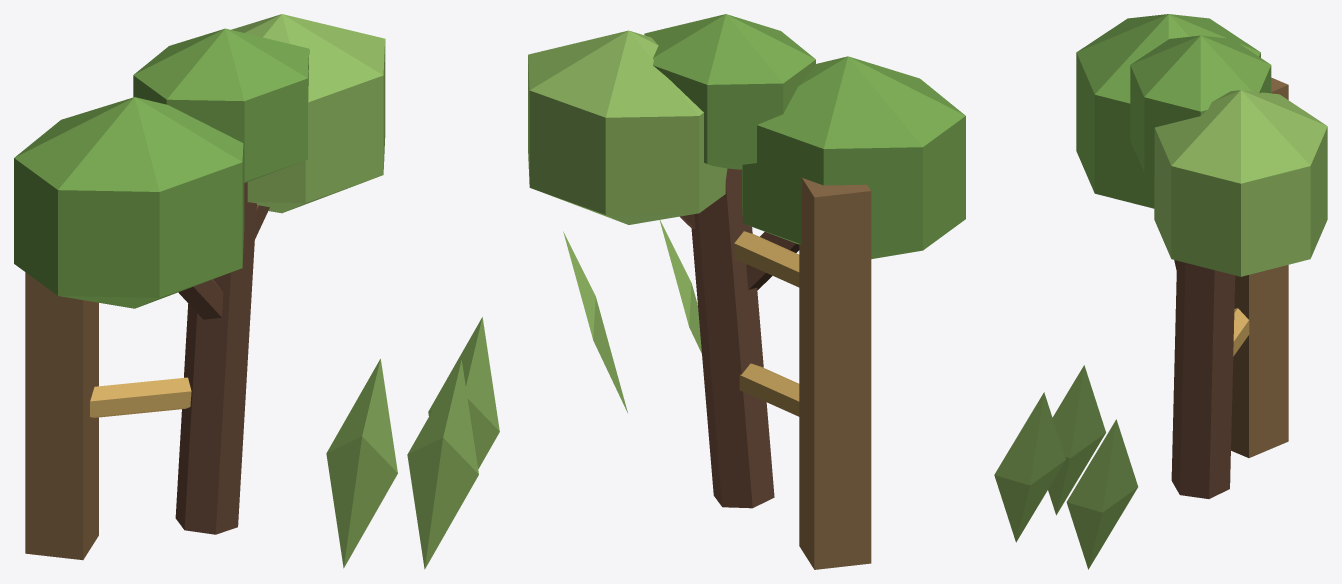
Rendered from sapling.glb.
3 views of the same model, side by side, from view 1: azimuth 30°, elevation 25°; view 2: azimuth 150°, elevation 25°; view 3: azimuth 270°, elevation 25° (orthographic). The views are drawn at different scales.
Parts seen in each view (by area): view 1: Sapling_young_crown, Sapling_timber_stake, Sapling_young_crown.002, Sapling_young_crown.001, Sapling_young_trunk, decor_Grass, decor_Grass.002, decor_Grass.001, Sapling_brass_tie, Sapling_branch; view 2: Sapling_young_crown, Sapling_young_crown.001, Sapling_timber_stake, Sapling_young_trunk, Sapling_young_crown.002, Sapling_brass_tie.001, Sapling_brass_tie, decor_Grass.001, decor_Grass.002, Sapling_branch; view 3: Sapling_young_crown.001, Sapling_young_trunk, Sapling_young_crown, Sapling_young_crown.002, Sapling_timber_stake, decor_Grass.002, decor_Grass.001, decor_Grass, Sapling_brass_tie.
Part boxes in pixels (bbox=[...]): Sapling_young_crown: bbox=[14, 97, 244, 308]; Sapling_timber_stake: bbox=[25, 272, 98, 560]; Sapling_young_crown.002: bbox=[133, 28, 309, 182]; Sapling_young_crown.001: bbox=[231, 14, 385, 213]; Sapling_young_trunk: bbox=[175, 182, 256, 534]; decor_Grass: bbox=[326, 359, 397, 568]; decor_Grass.002: bbox=[407, 360, 478, 569]; decor_Grass.001: bbox=[428, 317, 499, 468]; Sapling_brass_tie: bbox=[90, 377, 191, 417]; Sapling_branch: bbox=[178, 279, 223, 319]; Sapling_young_crown: bbox=[742, 56, 965, 258]; Sapling_young_crown.001: bbox=[528, 30, 727, 224]; Sapling_timber_stake: bbox=[799, 178, 871, 569]; Sapling_young_trunk: bbox=[691, 168, 774, 508]; Sapling_young_crown.002: bbox=[644, 14, 815, 169]; Sapling_brass_tie.001: bbox=[734, 231, 799, 287]; Sapling_brass_tie: bbox=[739, 363, 799, 416]; decor_Grass.001: bbox=[563, 231, 627, 412]; decor_Grass.002: bbox=[659, 220, 701, 353]; Sapling_branch: bbox=[746, 232, 799, 290]; Sapling_young_crown.001: bbox=[1154, 90, 1327, 276]; Sapling_young_trunk: bbox=[1171, 260, 1235, 498]; Sapling_young_crown: bbox=[1076, 14, 1260, 208]; Sapling_young_crown.002: bbox=[1130, 35, 1271, 175]; Sapling_timber_stake: bbox=[1231, 77, 1288, 457]; decor_Grass.002: bbox=[994, 392, 1065, 542]; decor_Grass.001: bbox=[1066, 419, 1138, 569]; decor_Grass: bbox=[1048, 365, 1105, 515]; Sapling_brass_tie: bbox=[1233, 308, 1249, 356].
Size of the model in its own units: 0.5626 by 0.644 by 0.4153.
